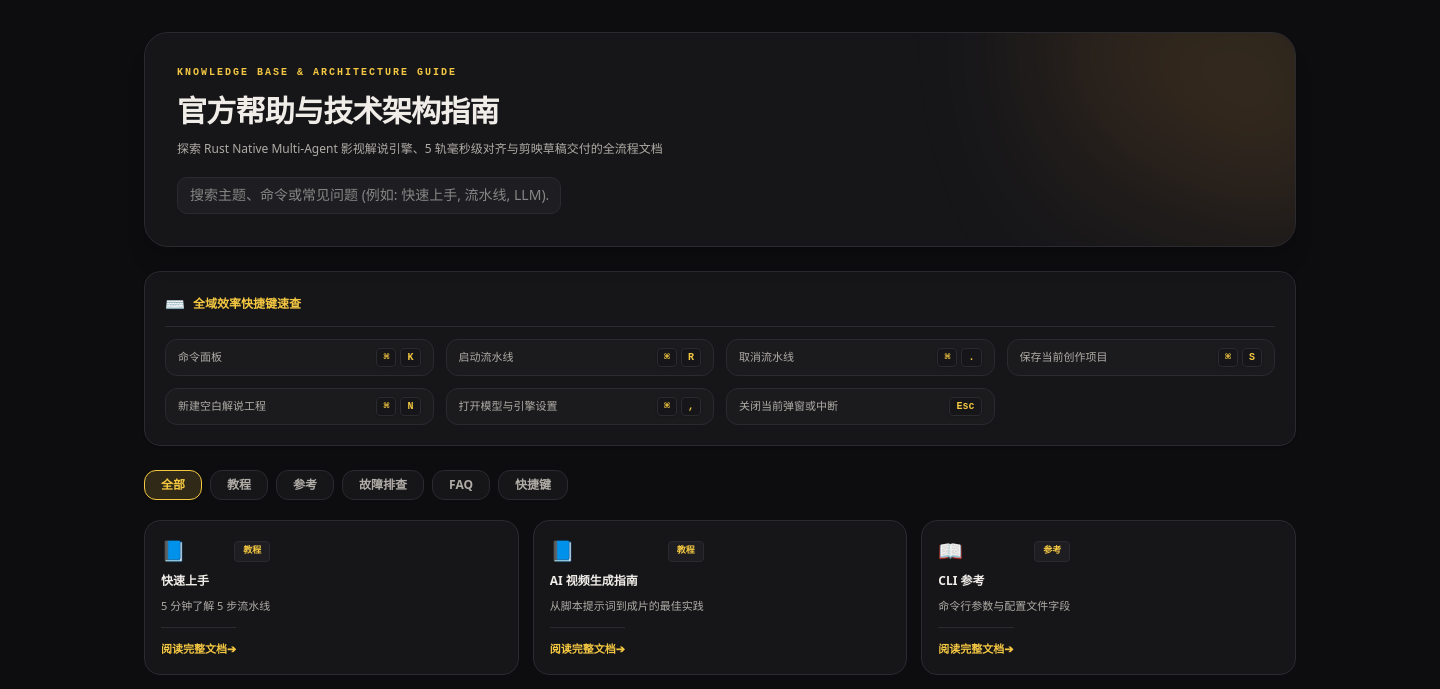
Scenario: HelpPage › 搜索无结果时显示空状态
The width and height of the screenshot is (1440, 689).
Expected: the heading "快速上手" is shown, [161,572,209,589]
In the field with placeholder "搜索主题、命令或常见问题 (例如: 快速上手, 流水线, LLM)...": (369, 195) [177,177,561,214], type "完全不存在"
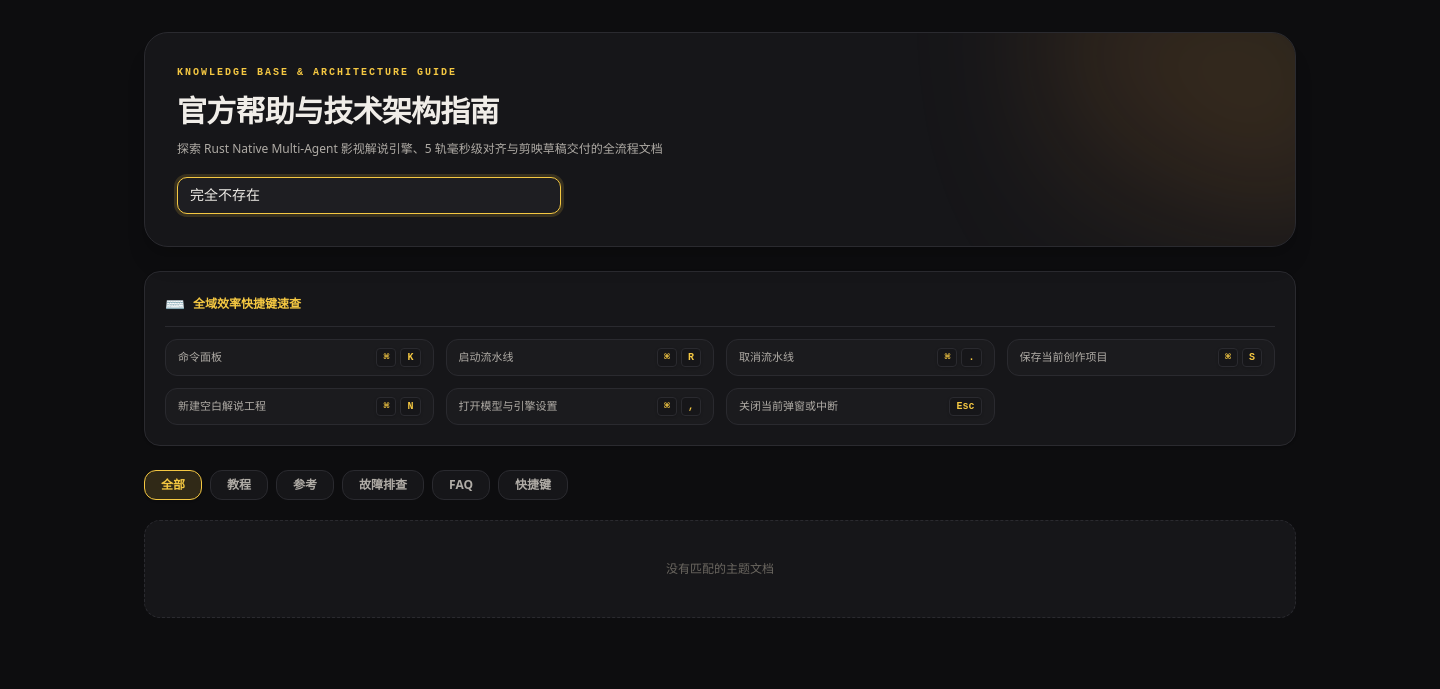
Expected: the text "没有匹配的主题文档" is shown, [144,520,1296,618]
